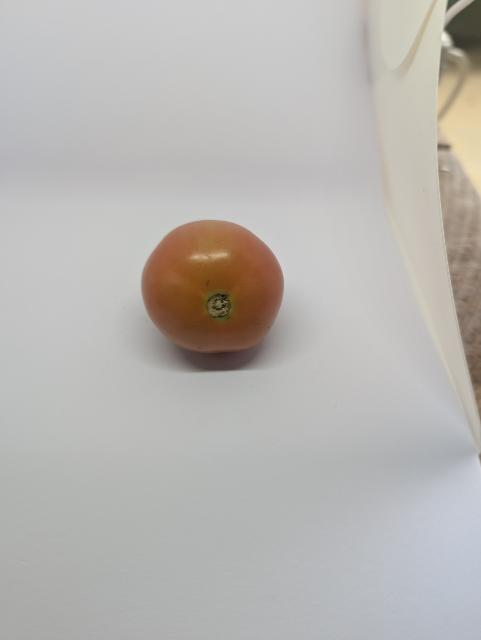turning: (139, 215, 293, 363)
